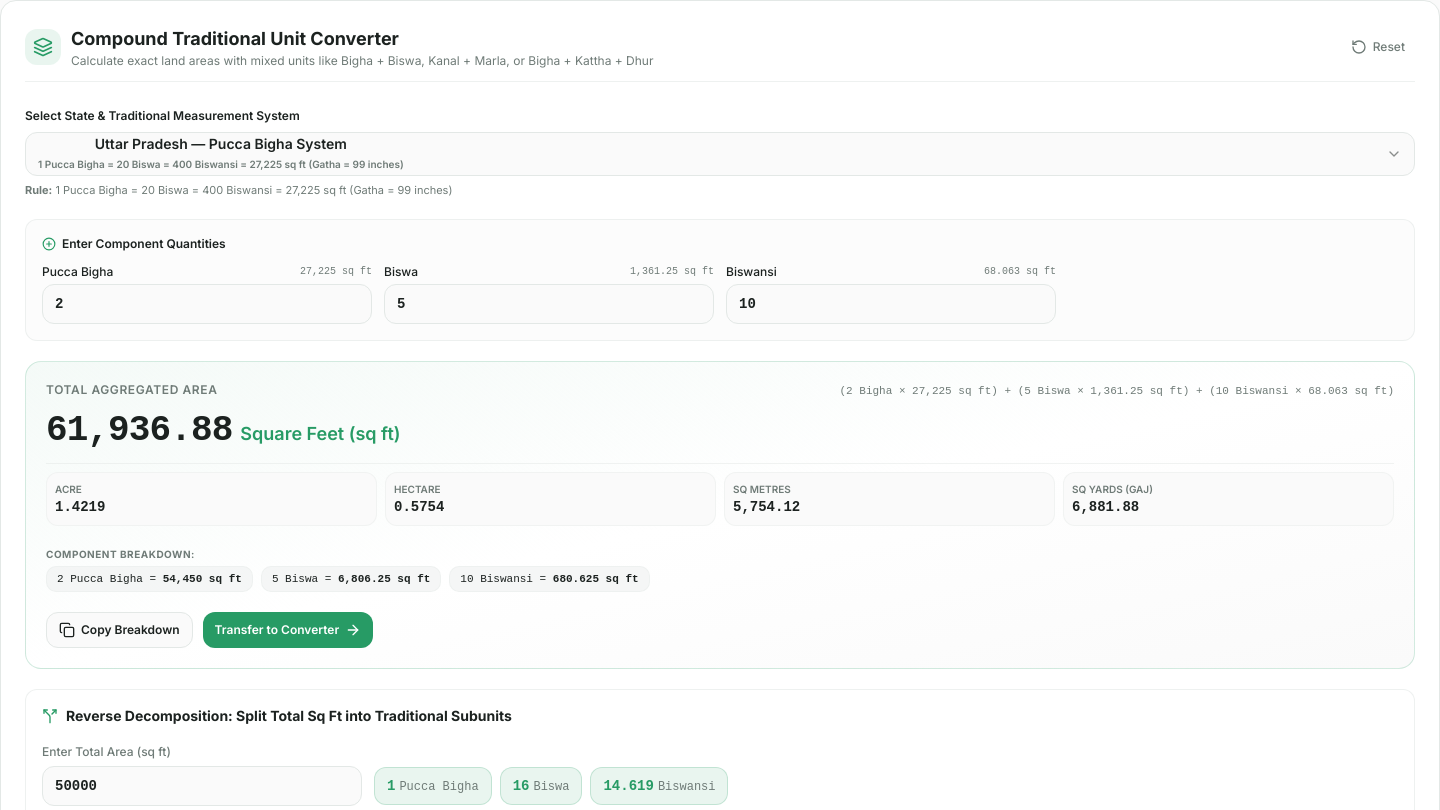
Scenario: PR #2 Pre-Merge Remediation Suite › Compound Quantity Validation & TypeScript Integrity (COMPOUND-001 - COMPOUND-019, TYPE-001 - TYPE-002) › COMPOUND-016: Reject malformed reverse decomposition input
This screenshot has width=1440, height=810.
Replace the text in the field labelled "Enter Total Area (sq ft)" with "3/4" at (202, 786), box [42,766,362,806]
(page scrolled)
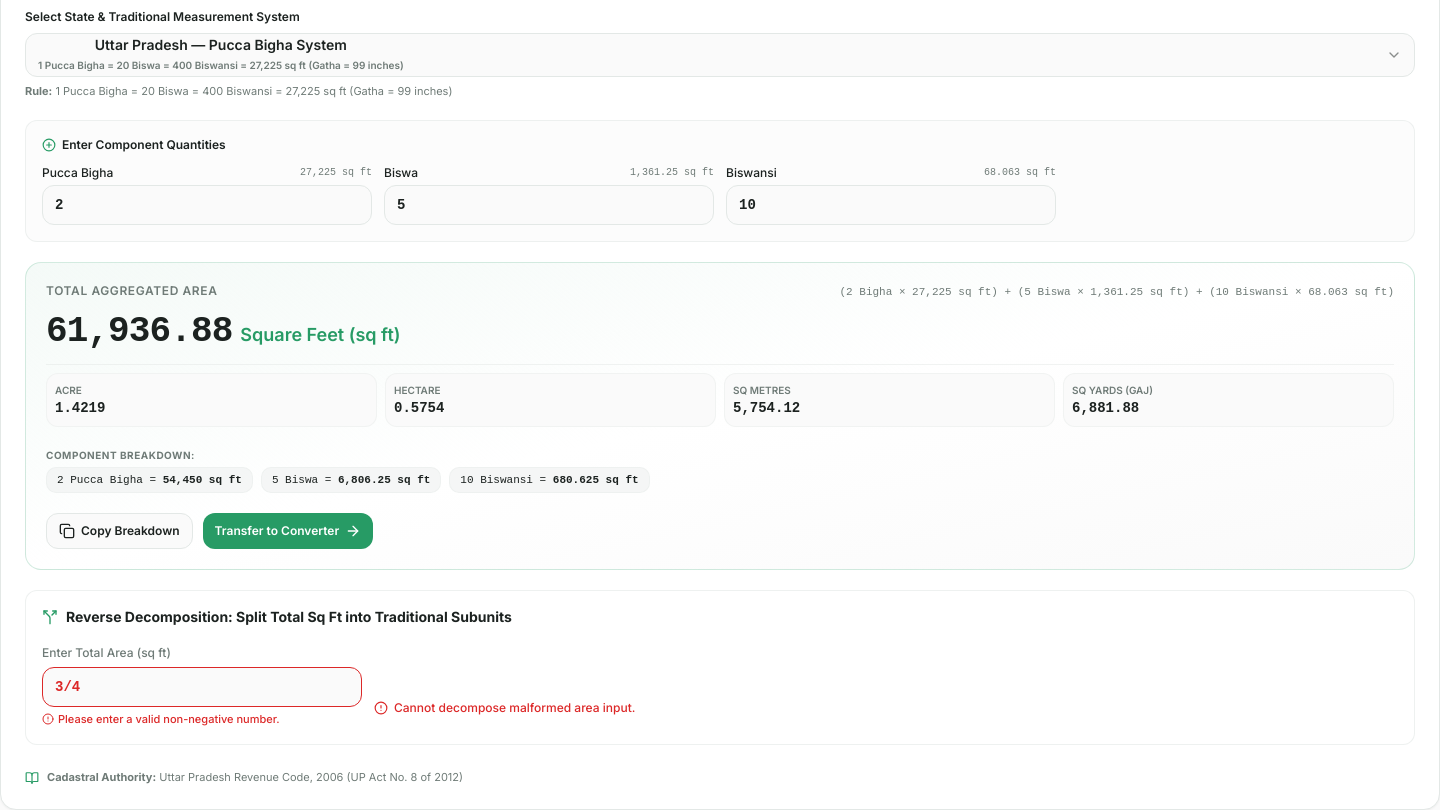
Check: the text "Cannot decompose malformed area input." is shown, box [394,700,635,716]
